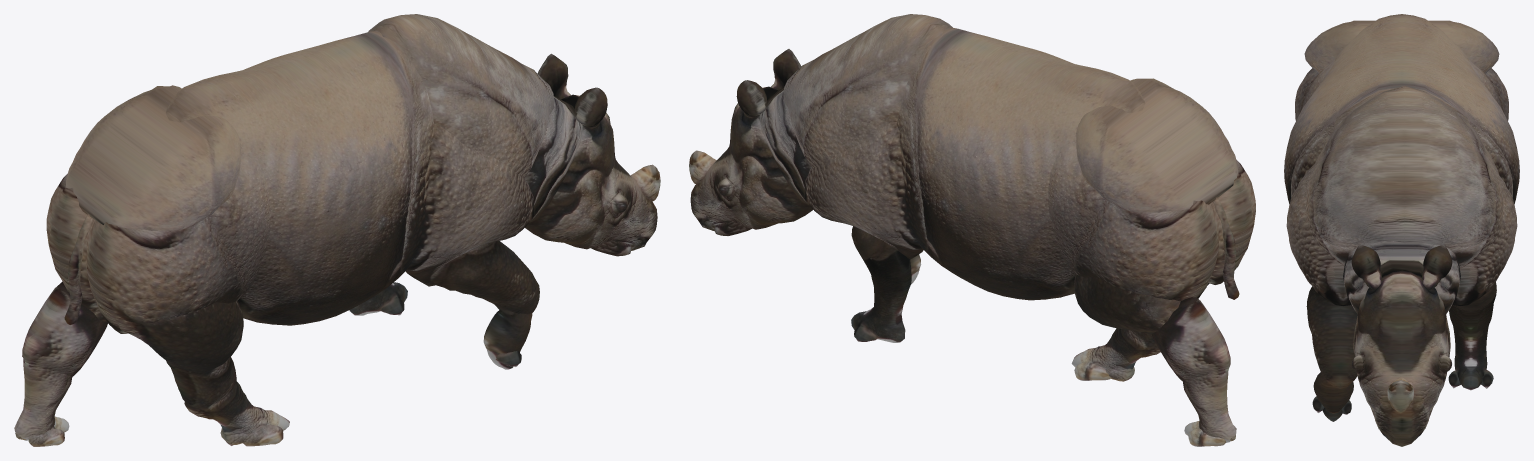
File: indian.gltf
The picture shows the model from 3 angles, left to right: view 1: azimuth 30°, elevation 25°; view 2: azimuth 150°, elevation 25°; view 3: azimuth 270°, elevation 25°; orthographic projection. The views are drawn at different scales.
Parts seen in each view (by area): view 1: Object_2; view 2: Object_2; view 3: Object_2.
Boxes of the visible parts, x1,y1,x2,y2 form: Object_2: (14,14,660,446); Object_2: (689,14,1255,446); Object_2: (1284,14,1519,446).
Bounding box in the file's own units: 1.87 × 1.04 × 0.6844.
1 material, 1 textured.
